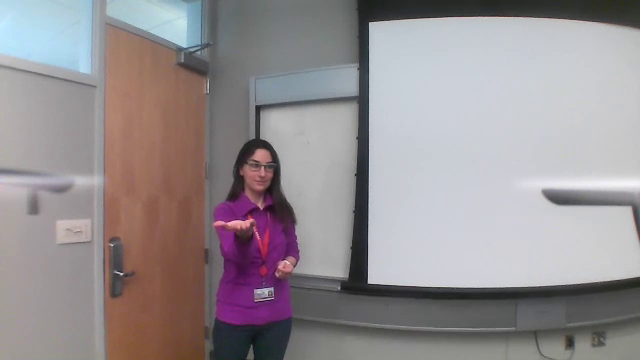land: (206, 213, 259, 243)
